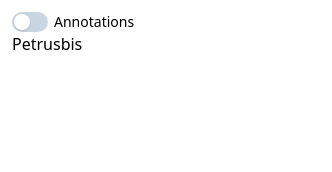
Scenario: annotations switch › keepsTheChoiceWhenStorageThrows
The image size is (332, 172).
# Not remembered, but kept as chosen while the page lasts, either way.
Click the switch labelled "Annotations": (73,22) left=12, top=12, right=134, bottom=32
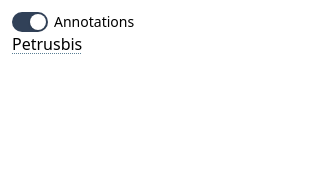
Check: the element with test id "reader" has attribute data-annotations="on", box left=12, top=12, right=134, bottom=55
Check: the switch labelled "Annotations" is checked
Click the switch labelled "Annotations": (73,22) left=12, top=12, right=134, bottom=32
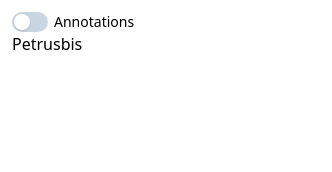
Check: the switch labelled "Annotations" is not checked
Click the switch labelled "Annotations": (73,22) left=12, top=12, right=134, bottom=32
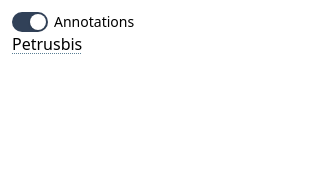
Check: the switch labelled "Annotations" is checked
Click the switch labelled "Annotations": (73,22) left=12, top=12, right=134, bottom=32
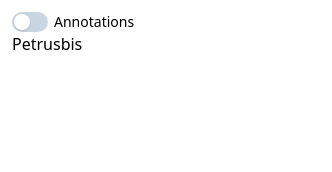
Check: the switch labelled "Annotations" is not checked, box left=12, top=12, right=134, bottom=32
